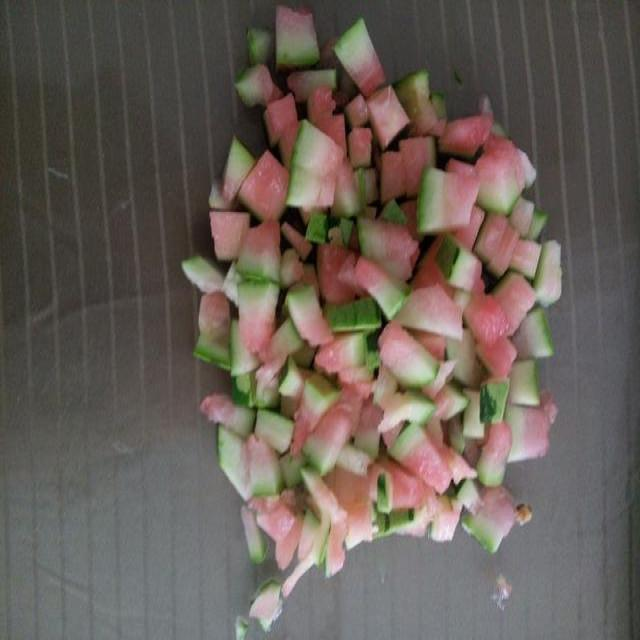Wet: (175, 4, 566, 640)
